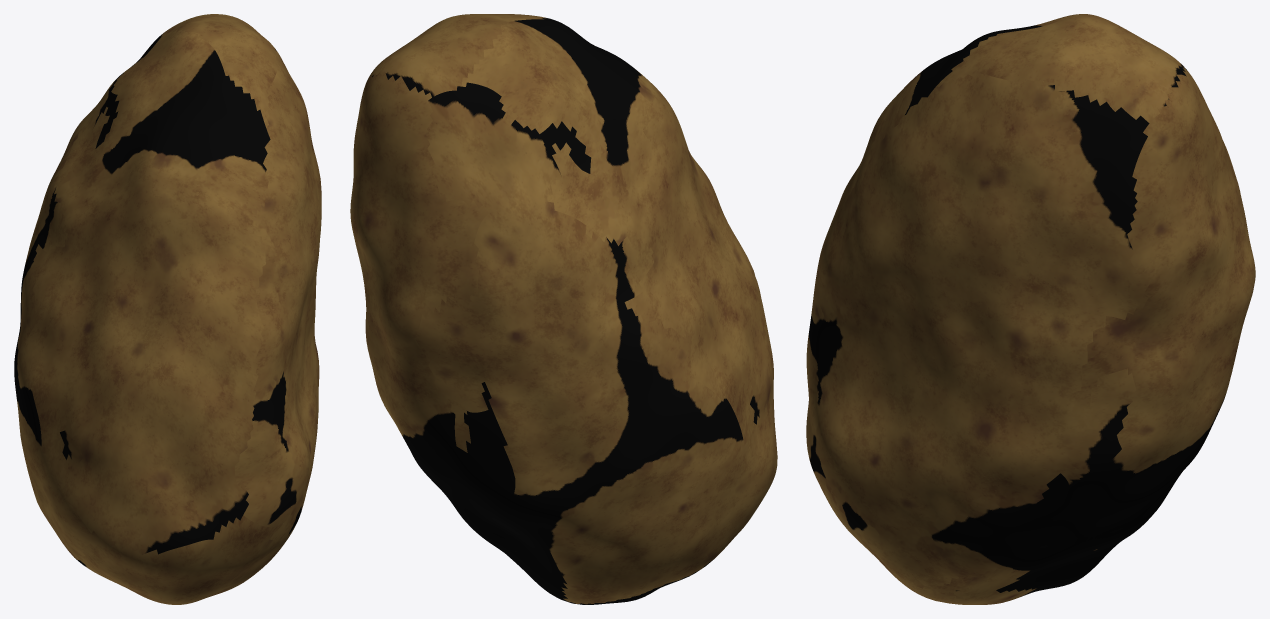
3 renders of one model, left to right at view 1: azimuth 30°, elevation 25°; view 2: azimuth 150°, elevation 25°; view 3: azimuth 270°, elevation 25°, orthographic. The views are drawn at different scales.
Visible parts, largest first — view 1: original_ico.012; view 2: original_ico.012; view 3: original_ico.012.
Boxes of the visible parts, bbox=[...] form: original_ico.012: bbox=[14, 14, 321, 604]; original_ico.012: bbox=[350, 14, 777, 604]; original_ico.012: bbox=[806, 14, 1255, 604].
Bounding box in the file's own units: 2.29 × 3.88 × 2.56.
